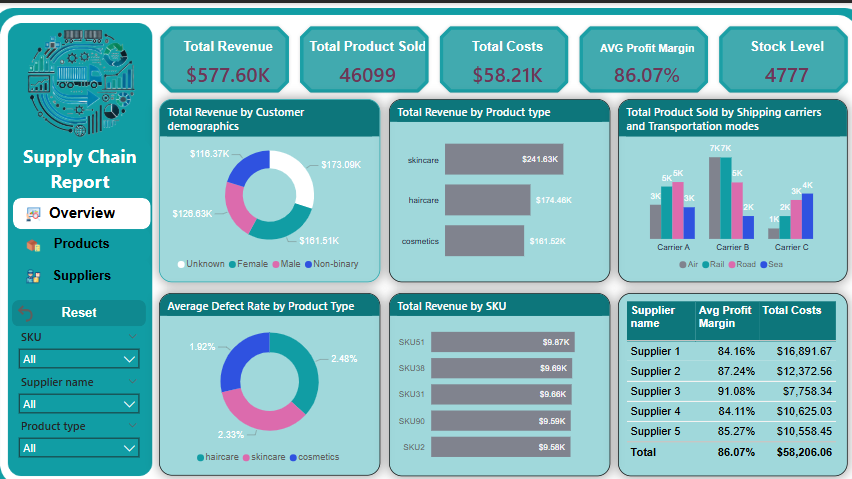

The page's visual inventory and layout, read from the dashboard file:
{"tool":"powerbi","page":{"name":"Overview","canvas":[1280,720],"ordinal":1},"visuals":[{"type":"image","box":[32.3,12.1,212.8,207.8],"z":0},{"type":"cardVisual","fields":{"Data":["All Measures.Total Revenue","All Measures.Total Product Sold","All Measures.Total Costs","All Measures.Avg Profit Margin","All Measures.Stock Level"]},"box":[239.3,21.1,1022.6,120.7],"z":1000},{"type":"donutChart","title":"Total Revenue by Customer demographics","fields":{"Y":["All Measures.Total Revenue"],"Category":["supply_chain_data.Customer demographics"]},"box":[250.4,138.8,319.7,265],"z":2000},{"type":"clusteredBarChart","title":"Total Revenue by Product type","fields":{"Category":["supply_chain_data.Product type"],"Y":["All Measures.Total Revenue"]},"box":[583,139.2,319.7,265.3],"z":3000},{"type":"clusteredColumnChart","fields":{"Category":["supply_chain_data.Shipping carriers"],"Series":["supply_chain_data.Transportation modes"],"Y":["All Measures.Total Product Sold"]},"box":[913.9,139.2,331.9,265.3],"z":4000},{"type":"donutChart","title":"Average  Defect Rate by Product Type","fields":{"Category":["supply_chain_data.Product type"],"Y":["All Measures.% Avg Defect Rate"]},"box":[250.4,419.3,319.7,264.4],"z":5000},{"type":"clusteredBarChart","title":"Total Revenue by SKU","fields":{"Y":["All Measures.Total Revenue"],"Category":["supply_chain_data.SKU"]},"box":[583,419.6,319.7,265.3],"z":6000},{"type":"tableEx","title":"Total Revenue by SKU","fields":{"Values":["supply_chain_data.Supplier name","All Measures.Avg Profit Margin","All Measures.Total Costs"]},"box":[913.9,418.6,331.9,265],"z":7000},{"type":"slicer","fields":{"Values":["supply_chain_data.SKU"]},"box":[37.3,467,193.7,64.6],"z":8000},{"type":"slicer","fields":{"Values":["supply_chain_data.Supplier name"]},"box":[37.3,531.6,193.7,64.6],"z":9000},{"type":"slicer","fields":{"Values":["supply_chain_data.Product type"]},"box":[37.3,596.1,193.7,65.6],"z":10000},{"type":"pageNavigator","box":[39.3,282.4,199.7,137.2],"z":11000},{"type":"actionButton","box":[37.3,428.7,193.7,38.3],"z":12000},{"type":"shape","box":[32.3,195.7,207.8,86.7],"z":13000},{"type":"image","box":[53.2,290.8,30.1,30.1],"z":14000},{"type":"image","box":[53.2,336.1,30.1,30.1],"z":15000},{"type":"image","box":[53.2,380.4,30.1,30.1],"z":16000}]}

Visuals, with their boxes in screenshot pixels (x1, y1, x2, y2), scaled from the page's 1280x720 canvas onto the 852x479 screenshot:
image: x1=21 y1=8 x2=163 y2=146
cardVisual - All Measures.Total Revenue x All Measures.Total Product Sold: x1=159 y1=14 x2=840 y2=94
"Total Revenue by Customer demographics" donutChart: x1=167 y1=92 x2=379 y2=269
"Total Revenue by Product type" clusteredBarChart: x1=388 y1=93 x2=601 y2=269
clusteredColumnChart - supply_chain_data.Shipping carriers x supply_chain_data.Transportation modes: x1=608 y1=93 x2=829 y2=269
"Average  Defect Rate by Product Type" donutChart: x1=167 y1=279 x2=379 y2=455
"Total Revenue by SKU" clusteredBarChart: x1=388 y1=279 x2=601 y2=456
"Total Revenue by SKU" tableEx: x1=608 y1=278 x2=829 y2=455
slicer - supply_chain_data.SKU: x1=25 y1=311 x2=154 y2=354
slicer - supply_chain_data.Supplier name: x1=25 y1=354 x2=154 y2=397
slicer - supply_chain_data.Product type: x1=25 y1=397 x2=154 y2=440
pageNavigator: x1=26 y1=188 x2=159 y2=279
actionButton: x1=25 y1=285 x2=154 y2=311
shape: x1=21 y1=130 x2=160 y2=188
image: x1=35 y1=193 x2=55 y2=213
image: x1=35 y1=224 x2=55 y2=244
image: x1=35 y1=253 x2=55 y2=273
